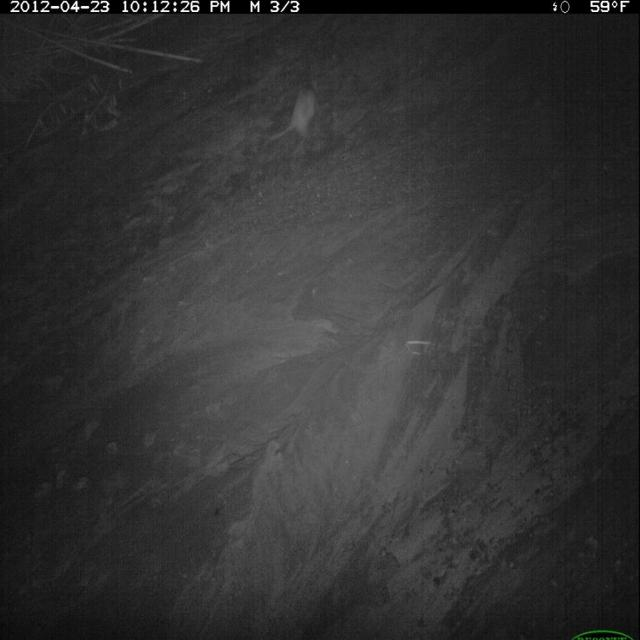opossum: (258, 79, 321, 152)
